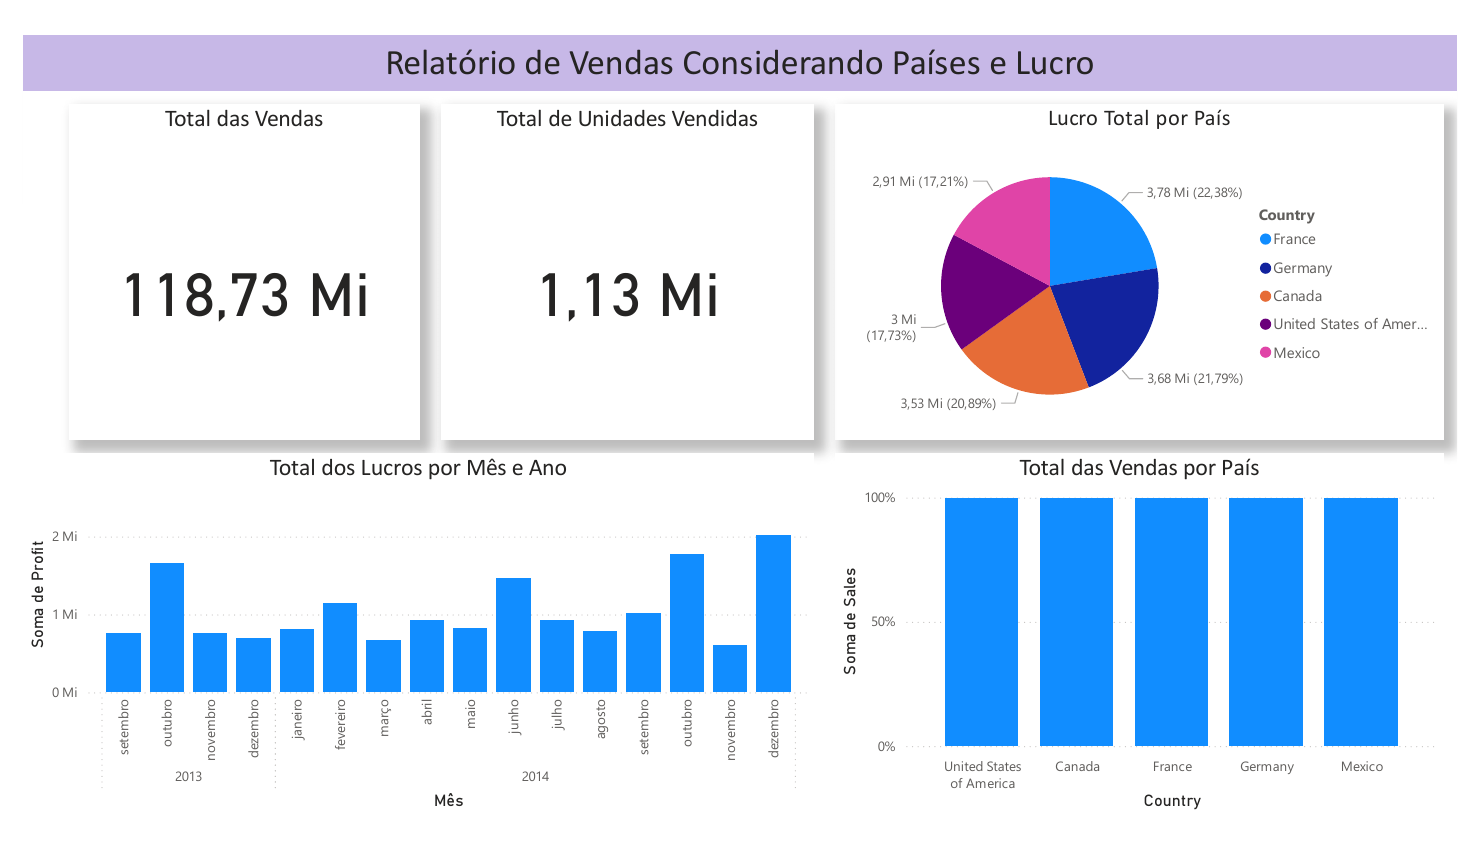

The dashboard page shown, as its layout file describes it:
{"tool":"powerbi","page":{"name":"Página 2","canvas":[1280,720],"ordinal":1},"visuals":[{"type":"card","title":"Total das Vendas","fields":{"Values":["Sum(financials.Sales)"]},"box":[41.3,71.6,312.4,300],"z":0},{"type":"pieChart","title":"Lucro Total por País","fields":{"Y":["Sum(financials.Profit)"],"Category":["financials.Country"]},"box":[725.3,71.6,542.3,300],"z":1000},{"type":"card","title":"Total de Unidades Vendidas","fields":{"Values":["Sum(financials.Units Sold)"]},"box":[373,71.6,333.1,300],"z":2000},{"type":"clusteredColumnChart","title":"Total dos Lucros por Mês e Ano","fields":{"Y":["Sum(financials.Profit)"],"Category":["financials.Date.Variation.Hierarquia de datas.Ano","financials.Date.Variation.Hierarquia de datas.Mês"]},"box":[0,382.6,706.1,324.8],"z":3000},{"type":"hundredPercentStackedColumnChart","title":"Total das Vendas por País","fields":{"Y":["Sum(financials.Sales)"],"Category":["financials.Country"]},"box":[725.3,382.6,542.3,324.8],"z":4000},{"type":"textbox","box":[0,10.1,1280,50.4],"z":5000}]}

Visuals, with their boxes in screenshot pixels (x1, y1, x2, y2), scaled from the page's 1280x720 canvas onto the 1483x854 screenshot:
"Total das Vendas" card: 48/85/410/441
"Lucro Total por País" pieChart: 840/85/1469/441
"Total de Unidades Vendidas" card: 432/85/818/441
"Total dos Lucros por Mês e Ano" clusteredColumnChart: 0/454/818/839
"Total das Vendas por País" hundredPercentStackedColumnChart: 840/454/1469/839
textbox: 0/12/1482/72
